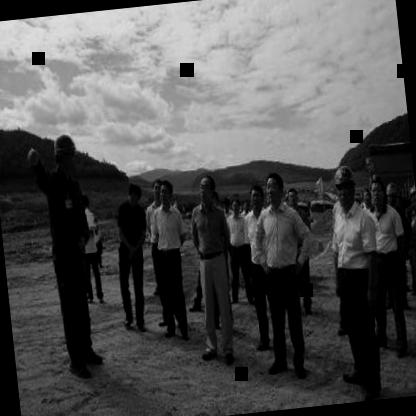head: (262, 170, 286, 212), (364, 171, 388, 213), (196, 170, 219, 208), (122, 178, 145, 214), (246, 183, 266, 214), (148, 173, 164, 205), (158, 177, 174, 206), (284, 184, 300, 209), (228, 194, 244, 219)
helmet: (49, 122, 79, 176), (330, 159, 360, 204), (384, 180, 402, 212)
